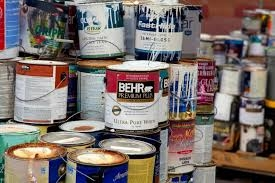metal: (97, 52, 163, 136), (10, 54, 76, 129), (129, 1, 187, 66), (71, 1, 128, 66), (15, 1, 75, 62), (93, 131, 157, 183), (3, 137, 71, 183), (163, 56, 204, 123), (182, 52, 223, 115), (62, 147, 130, 183), (158, 114, 195, 179), (187, 108, 220, 166), (186, 156, 218, 183)
